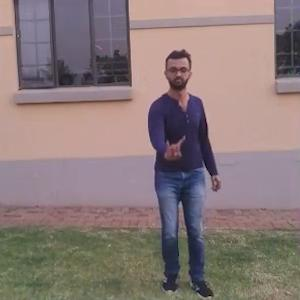takeoff-hand: (158, 130, 192, 166)
